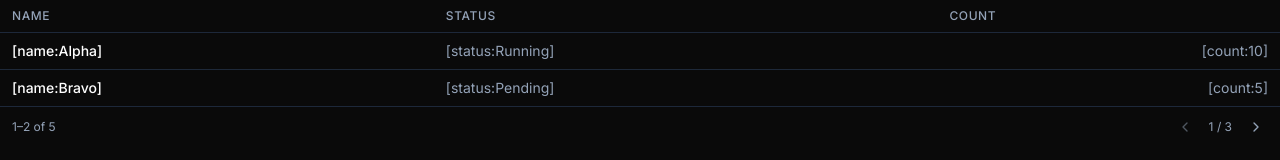
TableVisualization › pagination › navigates to next page
Click next page button (second button in pagination)
Click the 2nd button at (1256, 127), box [1244,115,1268,139]
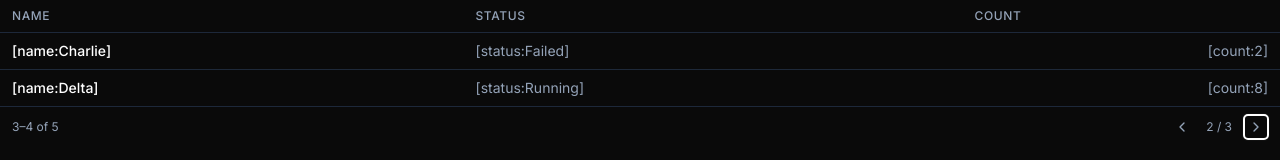
expect the text "[name:Charlie]" is shown: met, box [0,32,464,70]
expect the text "3–4 of 5" is shown: met, box [12,119,59,135]
